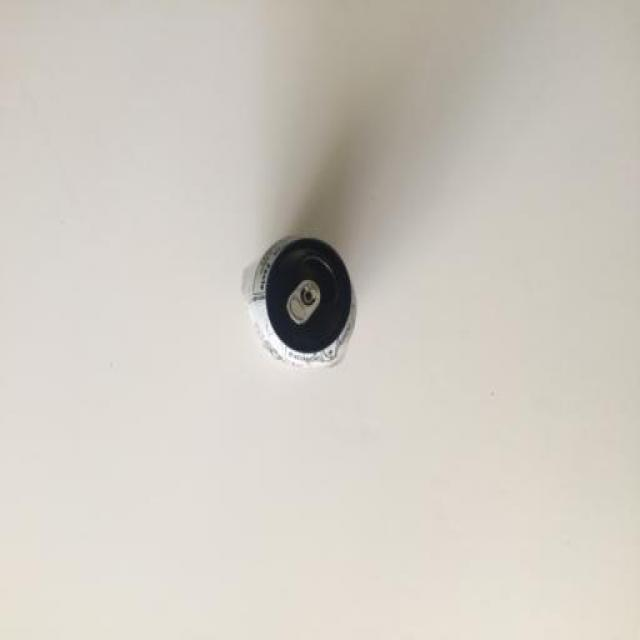metel: (218, 230, 375, 389)
